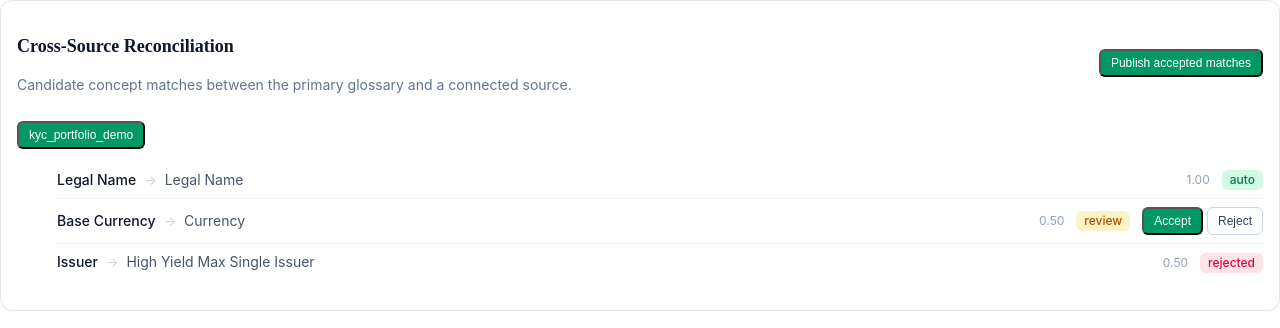
Test: rejecting a match moves it to the rejected band
This screenshot has width=1280, height=328.
Click the button "Reject".
click(1235, 221)  # box [1207,207,1263,235]
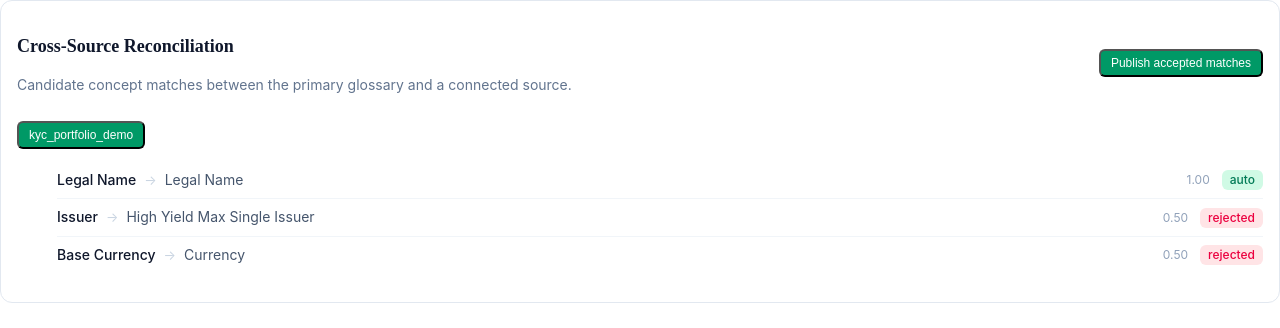
Result: the text "rejected" in the row of "Base Currency" is shown at [1208,247,1255,262]
